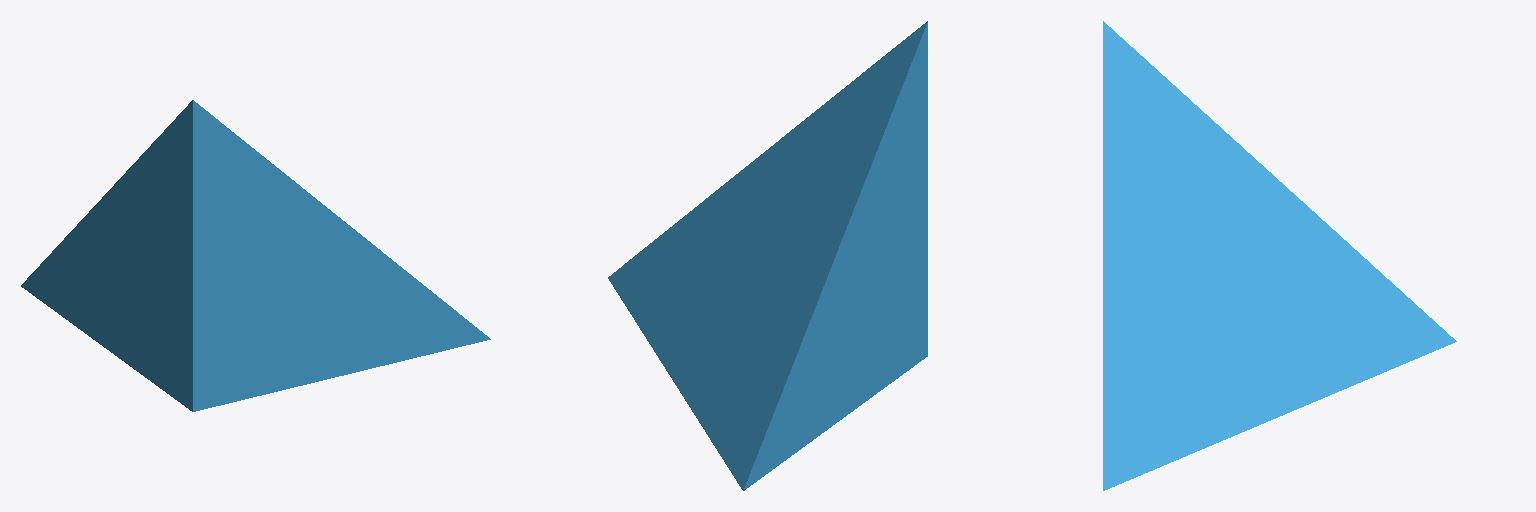
URDF robot description (mesh_arm):
<?xml version="1.0"?>
<robot name="mesh_arm">
  <link name="base">
    <inertial><mass value="1"/><inertia ixx="0.25" iyy="0.25" izz="0.25" ixy="0" ixz="0" iyz="0"/></inertial>
    <collision name="root_marker"><origin xyz="-1 0 0"/>
      <geometry><mesh filename="models/tetra.obj" scale="0.125 0.25 0.5"/></geometry></collision>
  </link>
  <link name="carrier">
    <inertial><origin xyz="0.0625 -0.03125 0.125"/><mass value="2"/>
      <inertia ixx="0.125" iyy="0.1875" izz="0.25" ixy="0" ixz="0" iyz="0"/></inertial>
    <visual name="display"><geometry><mesh filename="models/tetra.obj"/></geometry></visual>
    <collision name="bracket"><origin xyz="0.125 -0.25 0.0625" rpy="0 0 1.5707963267948966"/>
      <geometry><mesh filename="models/bracket.obj" scale="0.125 0.25 0.25"/></geometry></collision>
  </link>
  <joint name="tilt" type="revolute"><parent link="base"/><child link="carrier"/>
    <origin xyz="0.5 0.25 -0.125"/><axis xyz="0 1 0"/>
    <limit lower="-3.141592653589793" upper="3.141592653589793" effort="8" velocity="4"/>
  </joint>
</robot>

--- Render facts (derived) ---
The picture shows the robot from 3 angles, left to right: view 1: azimuth 30°, elevation 25°; view 2: azimuth 150°, elevation 25°; view 3: azimuth 270°, elevation 25°; orthographic projection.
Model mesh_arm with 2 links and 1 joints (1 revolute), rooted at base, posed all joints at 0.
Visible links, largest first — view 1: carrier; view 2: carrier; view 3: carrier.
Link boxes in pixels (box(x1,y1,x2,y2)): carrier: box(21, 100, 490, 411); carrier: box(608, 21, 927, 490); carrier: box(1103, 21, 1456, 490).
Bounding box of the posed robot: 1 × 1 × 1 m (x, y, z).
1 mesh visuals loaded from 1 distinct referenced files (1 OBJ).
